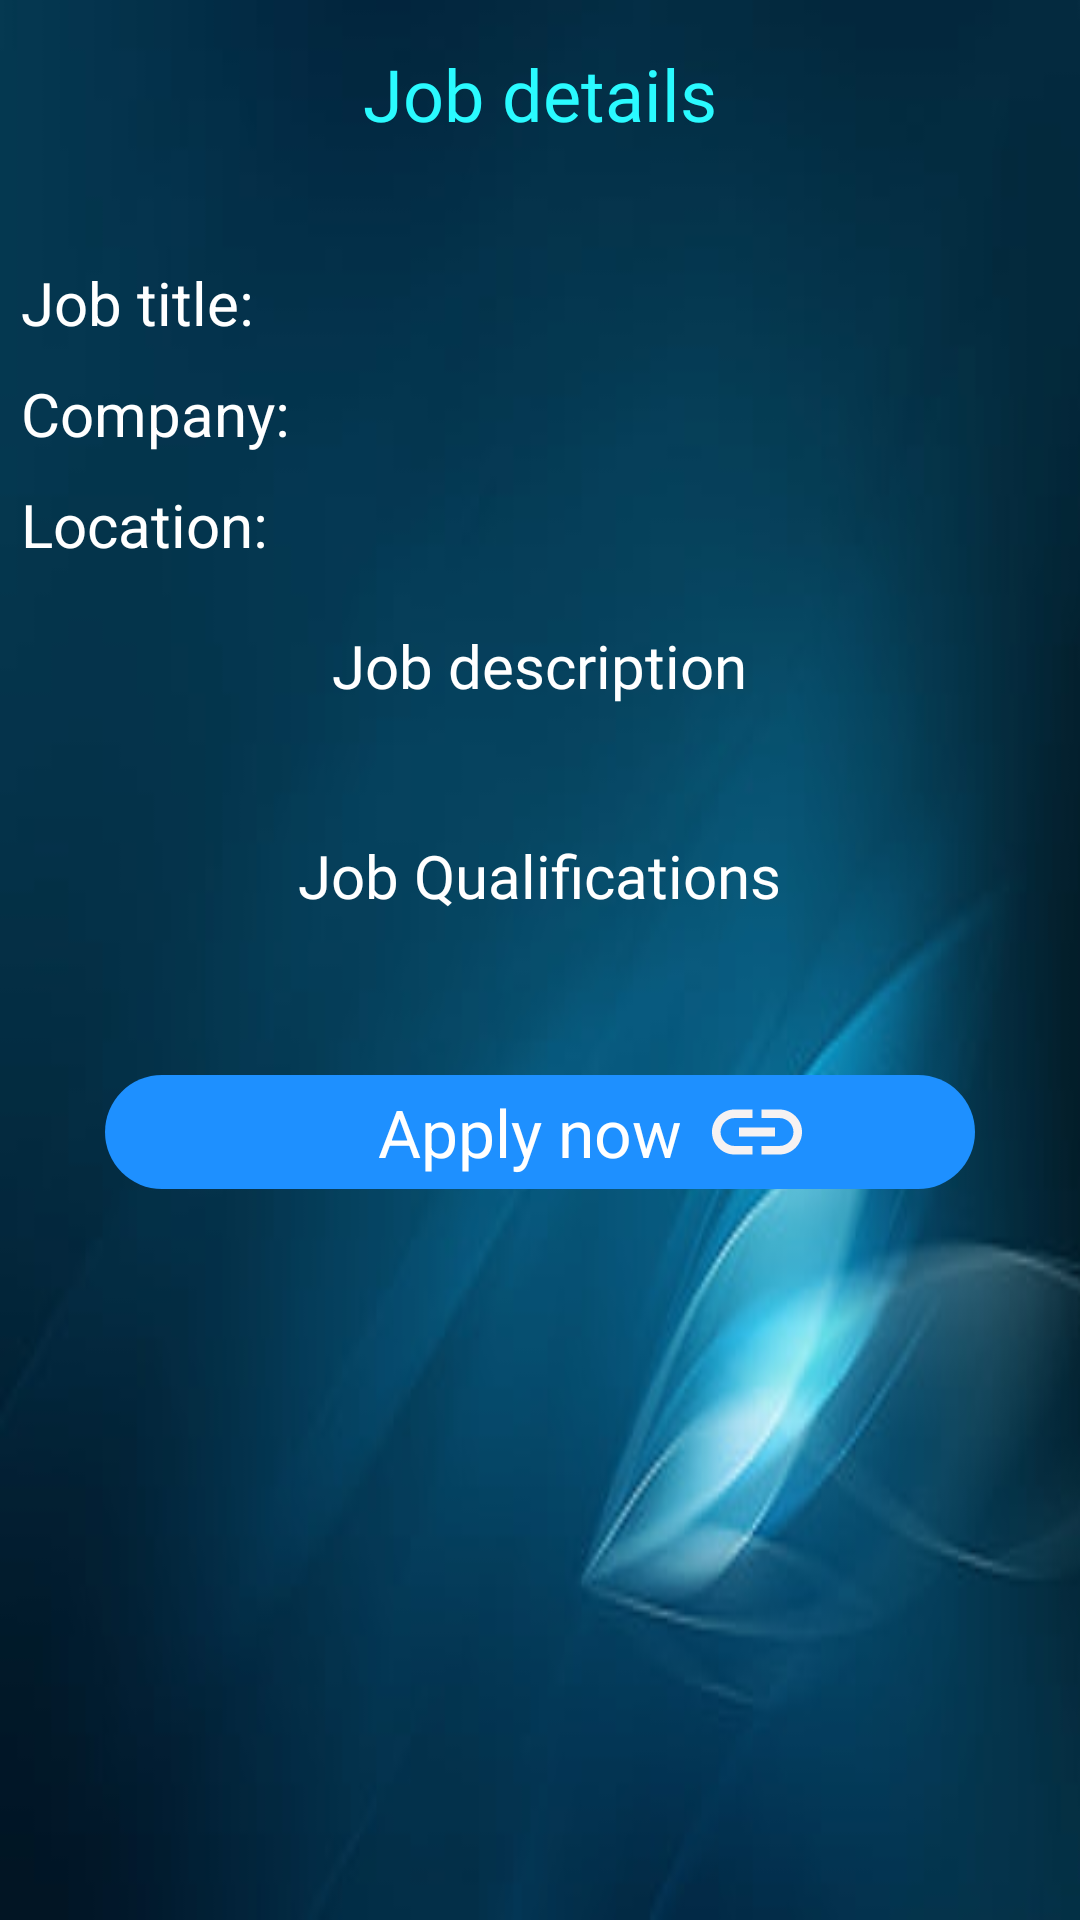

Named icons in this screenshot (1080×1920) and their bounding boxes, (x1, y1, x2, y2):
link: (712, 1109, 802, 1155)
